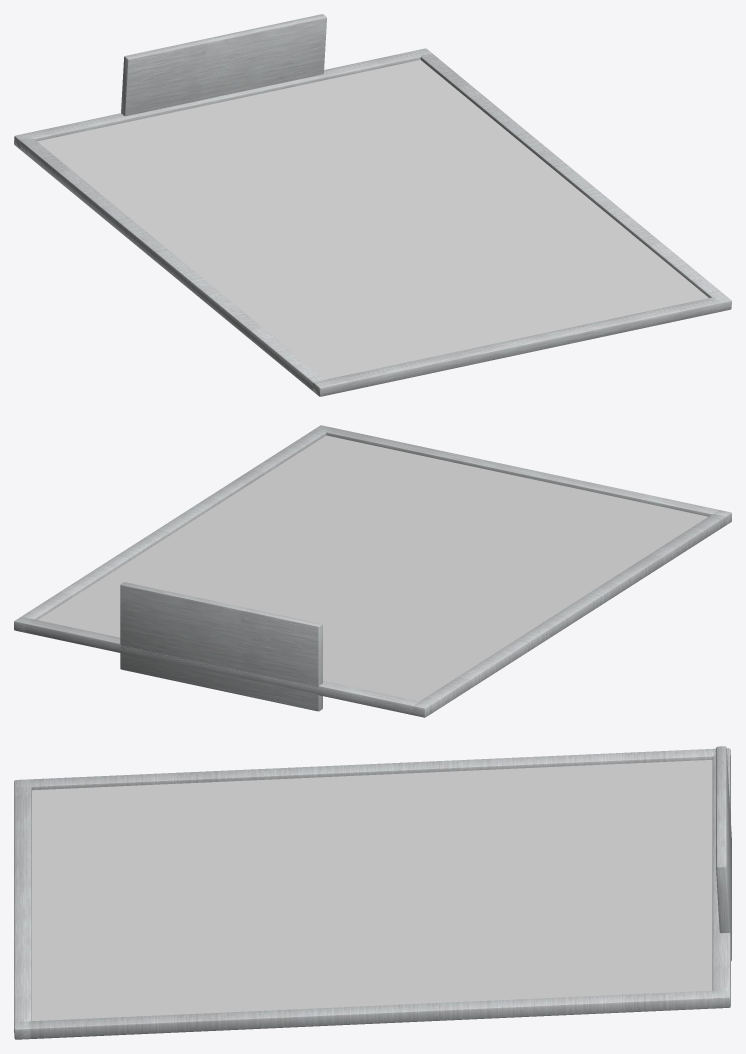
Rendered from HID-ACS-004_anim.glb.
The picture shows the model from 3 angles, top to bottom: view 1: azimuth 30°, elevation 25°; view 2: azimuth 150°, elevation 25°; view 3: azimuth 270°, elevation 25°; orthographic projection. The views are drawn at different scales.
Visible parts, largest first — view 1: HID-ACS-004_anim0; view 2: HID-ACS-004_anim0; view 3: HID-ACS-004_anim0.
Part boxes in pixels (x1,y1,x2,y2): HID-ACS-004_anim0: (14, 14, 731, 396); HID-ACS-004_anim0: (14, 425, 731, 717); HID-ACS-004_anim0: (14, 746, 731, 1039).
Bounding box in the file's own units: 0.6212 × 0.1503 × 0.8006.
Materials: 2 (1 with a texture image).
